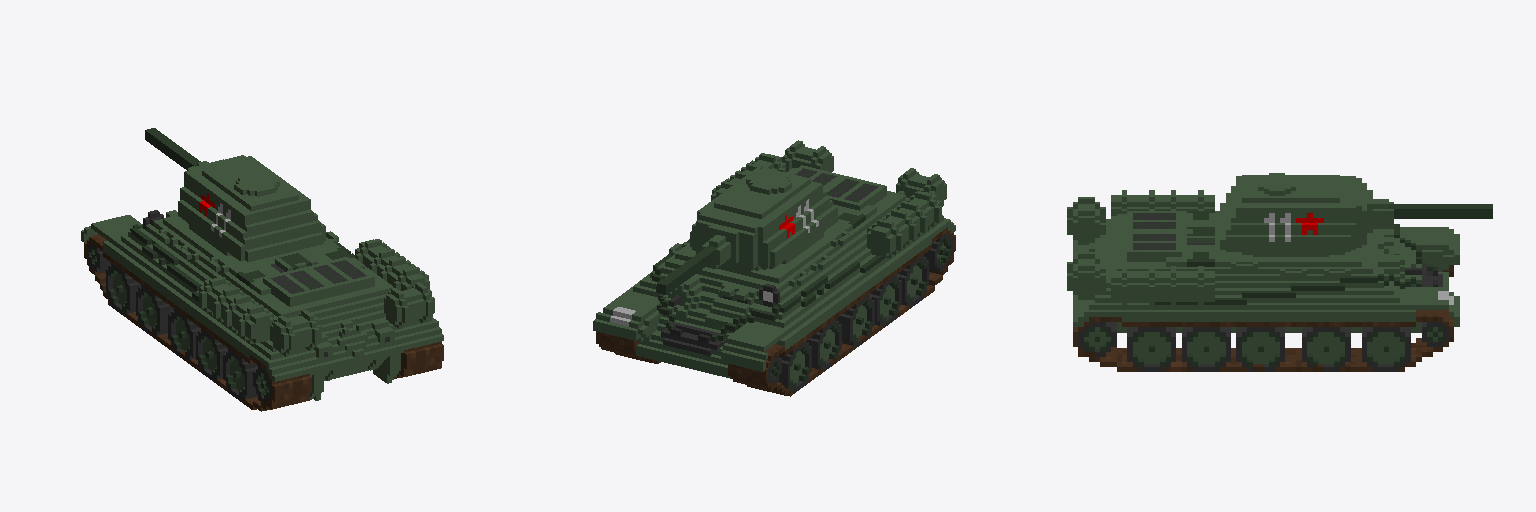
3 renders of one model, left to right at view 1: azimuth 30°, elevation 25°; view 2: azimuth 150°, elevation 25°; view 3: azimuth 270°, elevation 25°, orthographic.
Visible parts, largest first — view 1: object 1; view 2: object 1; view 3: object 1.
Boxes of the visible parts, x1,y1,x2,y2 form: object 1: [81, 128, 443, 411]; object 1: [593, 140, 955, 396]; object 1: [1067, 173, 1492, 371].
Size of the model in its own units: 4 by 3 by 7.8.
1 materials, 1 textured.